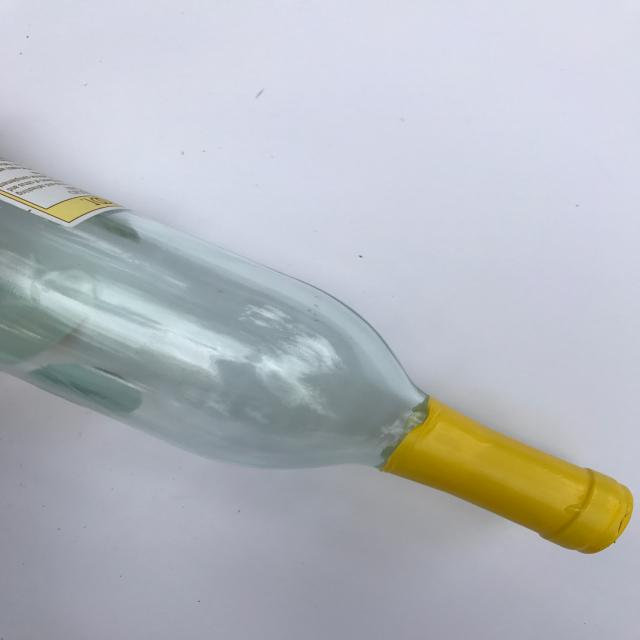glass: (0, 156, 634, 554)
